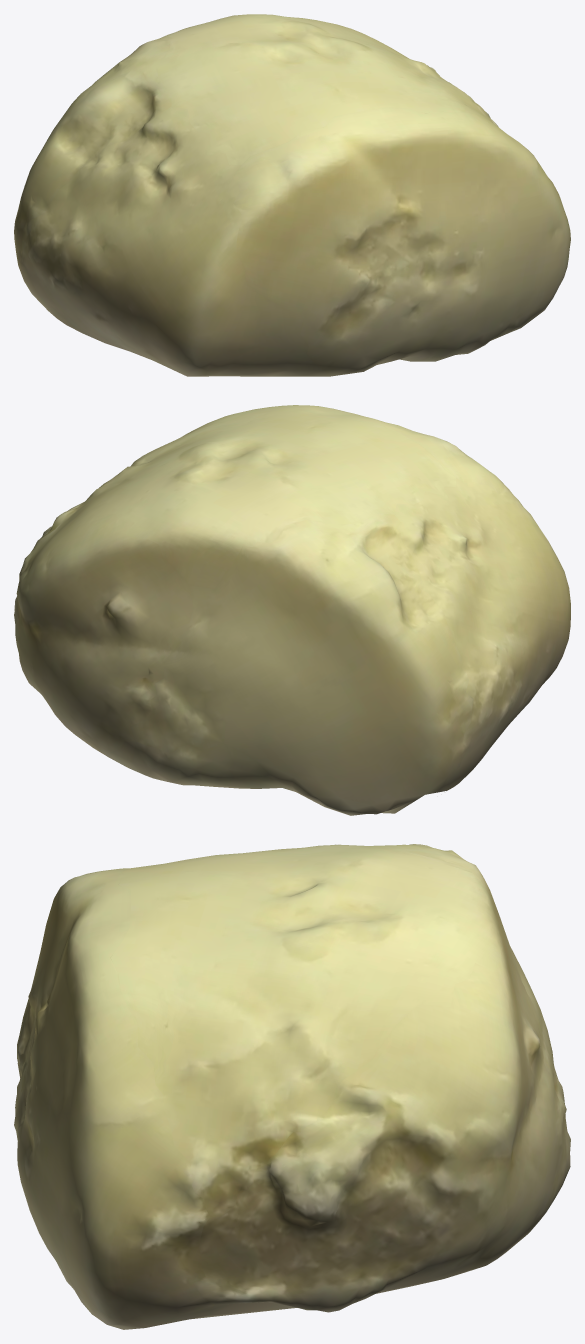
The model's file is 奶香馒头.glb.
3 views of the same model, one above another, from view 1: azimuth 30°, elevation 25°; view 2: azimuth 150°, elevation 25°; view 3: azimuth 270°, elevation 25° (orthographic). The views are drawn at different scales.
Visible parts, largest first — view 1: 奶香馒头.usdz; view 2: 奶香馒头.usdz; view 3: 奶香馒头.usdz.
Boxes of the visible parts, left/top/right/bottom form: 奶香馒头.usdz: left=14, top=14, right=570, bottom=376; 奶香馒头.usdz: left=14, top=405, right=570, bottom=815; 奶香馒头.usdz: left=14, top=844, right=570, bottom=1329.
Bounding box in the file's own units: 0.0709 × 0.0412 × 0.0592.
Materials: 1 (1 with a texture image).
